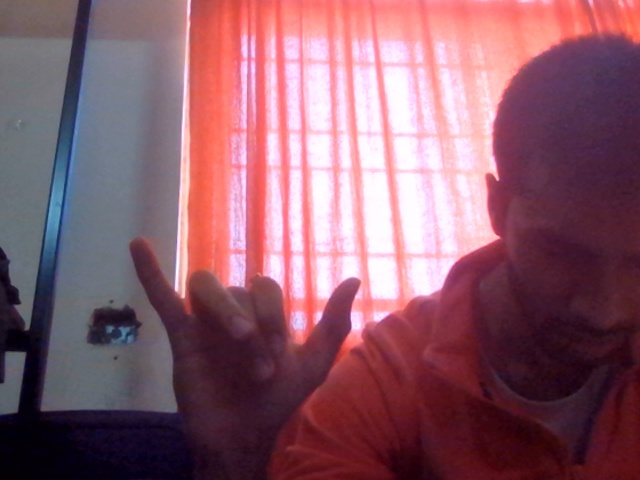Y: (115, 213, 478, 475)
